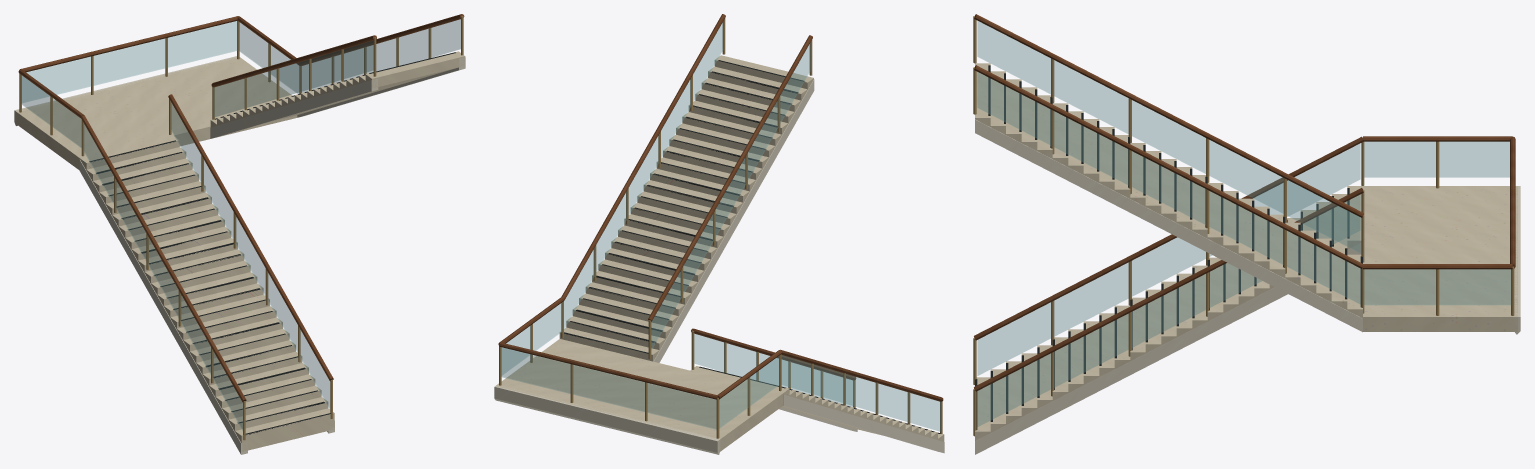
File: AST-CIR-001.glb
3 views of the same model, side by side, from view 1: azimuth 30°, elevation 25°; view 2: azimuth 150°, elevation 25°; view 3: azimuth 270°, elevation 25° (orthographic). The views are drawn at different scales.
Visible parts, largest first — view 1: CIR_Flight_0, CIR_MidLanding, CIR_GuardLandingRear, CIR_Guard_1_0, CIR_Guard_0_0, CIR_Guard_0_1, CIR_Guard_1_1, CIR_Flight_1, CIR_ProfiledStringer_0_0, CIR_ProfiledStringer_1_0, CIR_GuardLandingSide_0.08, CIR_Handrail_0_0 (+7 smaller); view 2: CIR_Flight_1, CIR_MidLanding, CIR_GuardLandingRear, CIR_Guard_0_0, CIR_Guard_1_1, CIR_Guard_1_0, CIR_Guard_0_1, CIR_LandingFascia, CIR_ProfiledStringer_1_0, CIR_ProfiledStringer_0_0, CIR_Flight_0, CIR_GuardLandingSide_0.08 (+6 smaller); view 3: CIR_MidLanding, CIR_Flight_1, CIR_Flight_0, CIR_Guard_1_1, CIR_Guard_1_0, CIR_Guard_0_1, CIR_Guard_0_0, CIR_ProfiledStringer_1_1, CIR_GuardLandingSide_5.92, CIR_GuardLandingSide_0.08, CIR_ProfiledStringer_0_1, CIR_Handrail_1_0 (+7 smaller).
Part boxes in pixels (x1,y1,x2,y2): CIR_Flight_0: [80, 135, 334, 451]; CIR_MidLanding: [15, 57, 297, 170]; CIR_GuardLandingRear: [22, 21, 237, 102]; CIR_Guard_1_0: [214, 40, 373, 117]; CIR_Guard_0_0: [83, 123, 242, 430]; CIR_Guard_0_1: [171, 102, 329, 409]; CIR_Guard_1_1: [301, 19, 460, 92]; CIR_Flight_1: [210, 51, 465, 127]; CIR_ProfiledStringer_0_0: [79, 160, 247, 454]; CIR_ProfiledStringer_1_0: [210, 78, 378, 138]; CIR_GuardLandingSide_0.08: [21, 75, 81, 147]; CIR_Handrail_0_0: [81, 115, 246, 402]; CIR_Flight_1: [559, 55, 813, 361]; CIR_MidLanding: [496, 339, 783, 451]; CIR_GuardLandingRear: [501, 347, 716, 429]; CIR_Guard_0_0: [782, 355, 940, 431]; CIR_Guard_1_1: [564, 21, 723, 329]; CIR_Guard_1_0: [651, 43, 810, 349]; CIR_Guard_0_1: [694, 334, 853, 407]; CIR_LandingFascia: [494, 385, 720, 454]; CIR_ProfiledStringer_1_0: [653, 79, 814, 362]; CIR_ProfiledStringer_0_0: [783, 394, 944, 453]; CIR_Flight_0: [690, 366, 944, 441]; CIR_GuardLandingSide_0.08: [719, 356, 779, 428]; CIR_MidLanding: [1363, 186, 1517, 331]; CIR_Flight_1: [975, 63, 1362, 318]; CIR_Flight_0: [975, 186, 1362, 440]; CIR_Guard_1_1: [977, 72, 1360, 304]; CIR_Guard_1_0: [977, 21, 1360, 252]; CIR_Guard_0_1: [977, 195, 1360, 426]; CIR_Guard_0_0: [977, 143, 1360, 375]; CIR_ProfiledStringer_1_1: [975, 119, 1362, 332]; CIR_GuardLandingSide_5.92: [1364, 269, 1510, 304]; CIR_GuardLandingSide_0.08: [1364, 142, 1509, 177]; CIR_ProfiledStringer_0_1: [975, 243, 1361, 454]; CIR_Handrail_1_0: [974, 14, 1363, 217].
Bounding box in the file's own units: 6.02 × 9.91 × 10.58.
Materials: 6 (5 with a texture image).
